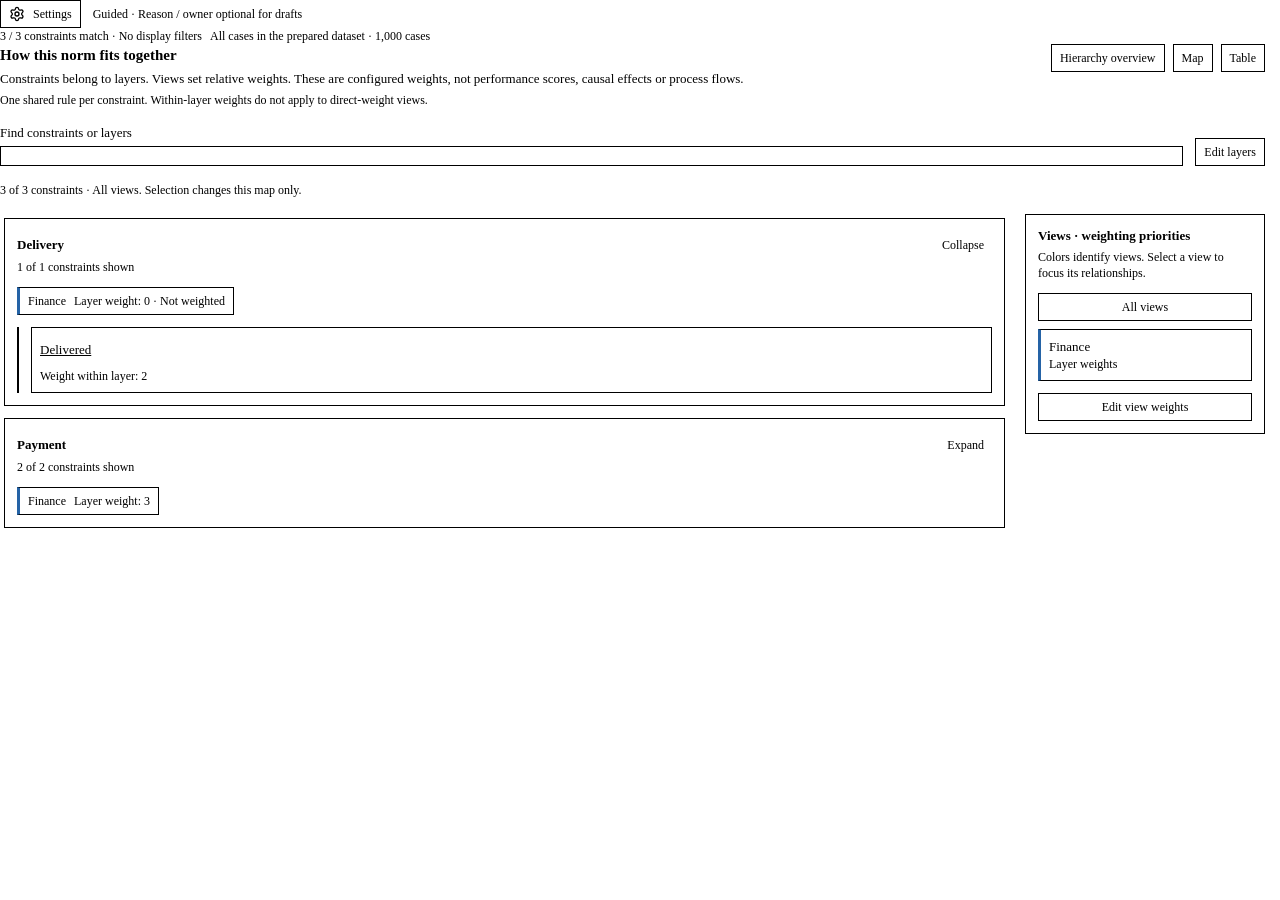
it: lets users choose a flexible cutoff and removes empty layers from the map without changing weights
Expected: the number field labelled "Minimum applicability" is not shown
Click the button "Settings" at (40, 14), box 0,0 -> 81,28
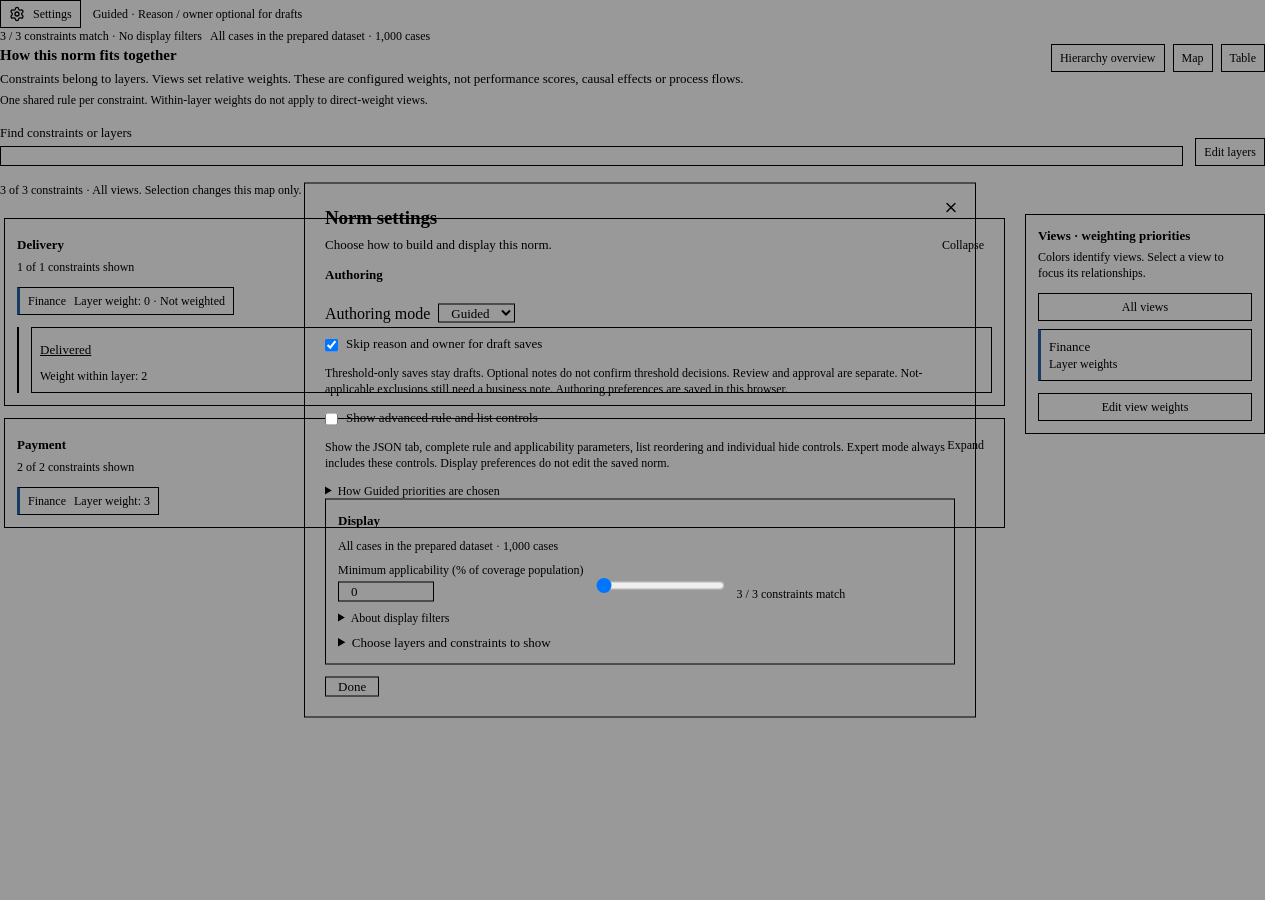
Replace the text in the number field labelled "Minimum applicability (% of coverage population)" with "80" at (386, 592), box 338,582 -> 434,602
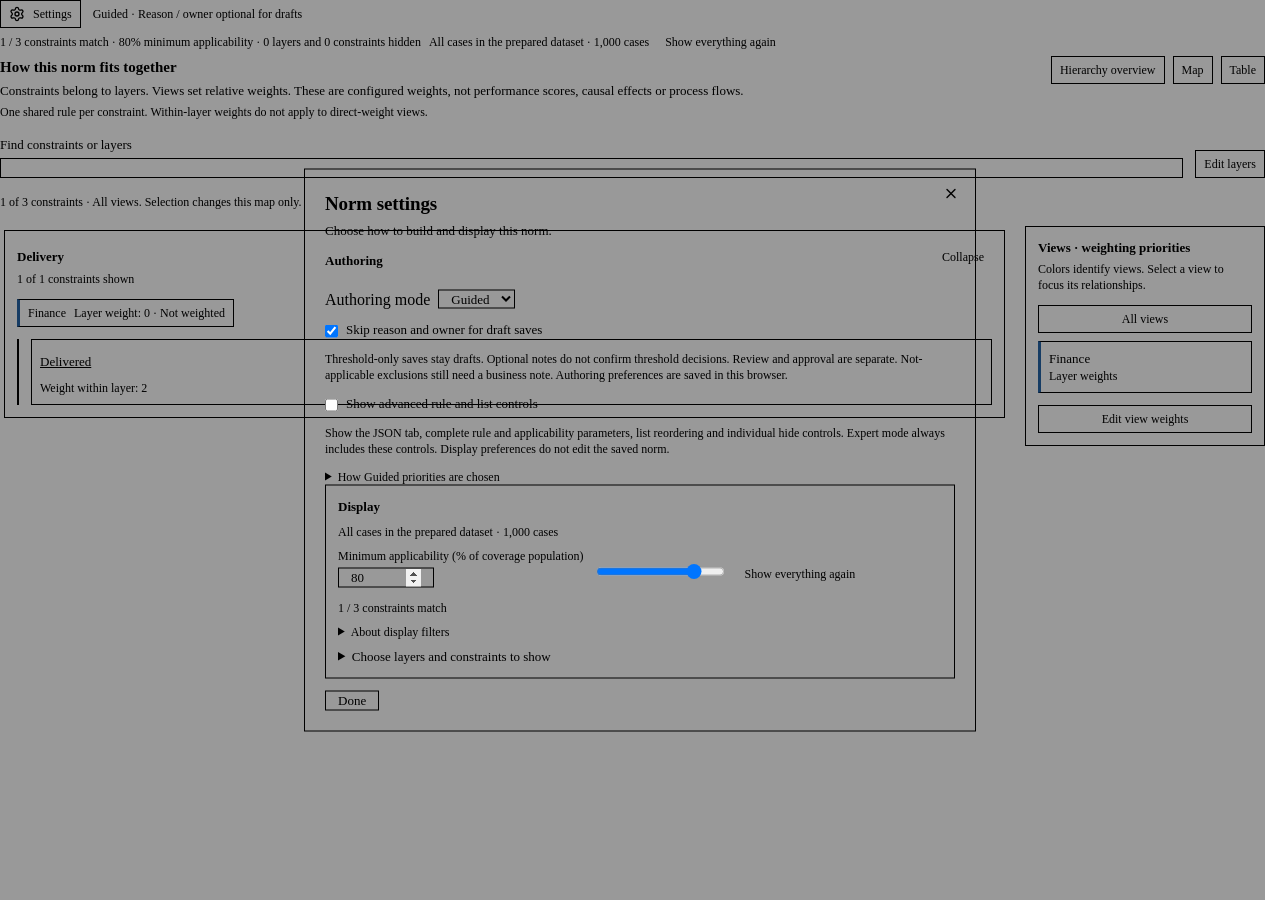
Expected: the element named "Layer: Delivery" is shown, 4,230 -> 1005,418
Now the slider named "Minimum applicability slider" holds "80", box 596,564 -> 725,580
Now the text "1 / 3 constraints match" is shown, box 338,600 -> 447,616
Clear the number field labelled "Minimum applicability (% of coverage population)" at (386, 578), box 338,568 -> 434,588
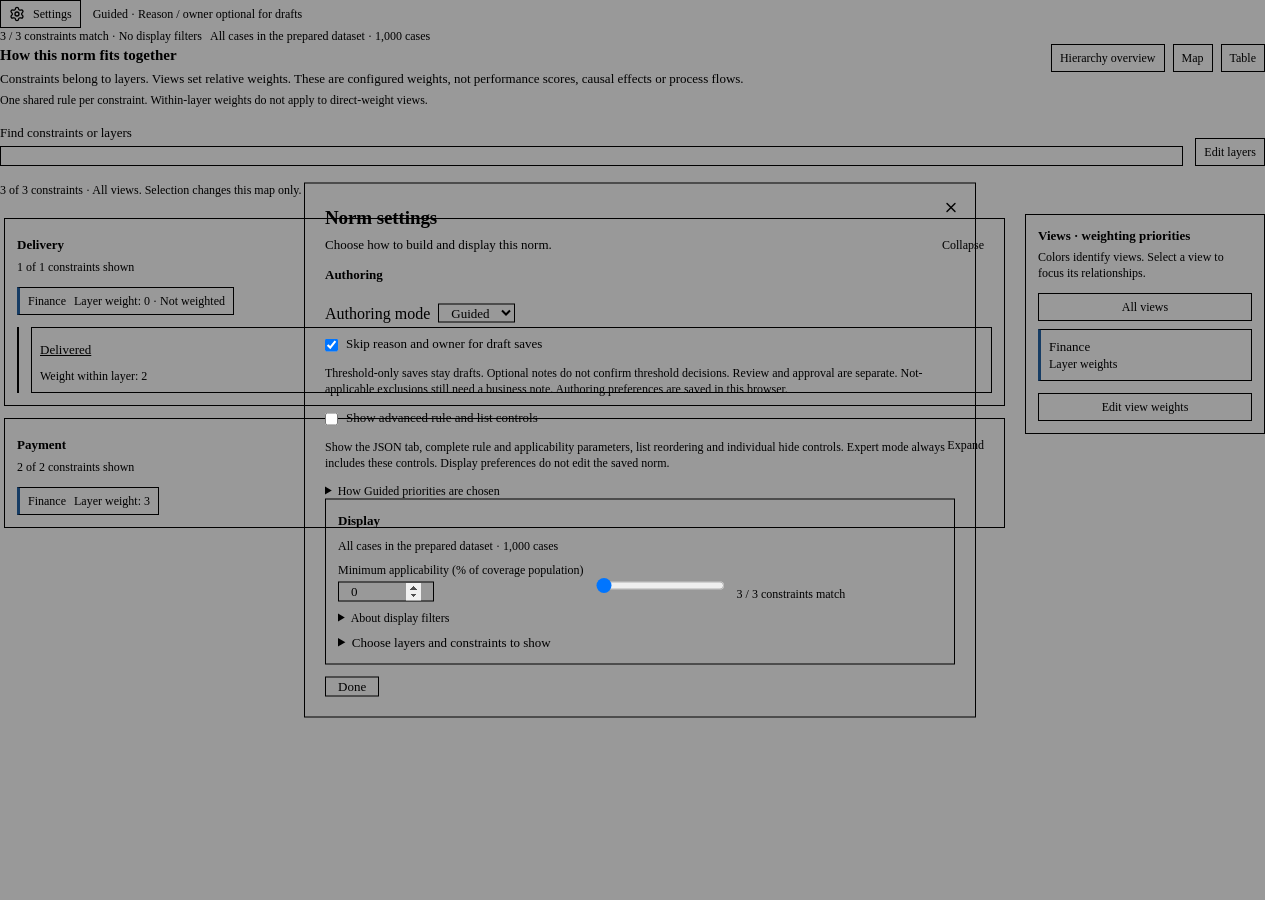
Type "79.9" into the number field labelled "Minimum applicability (% of coverage population)" at (386, 592), box 338,582 -> 434,602
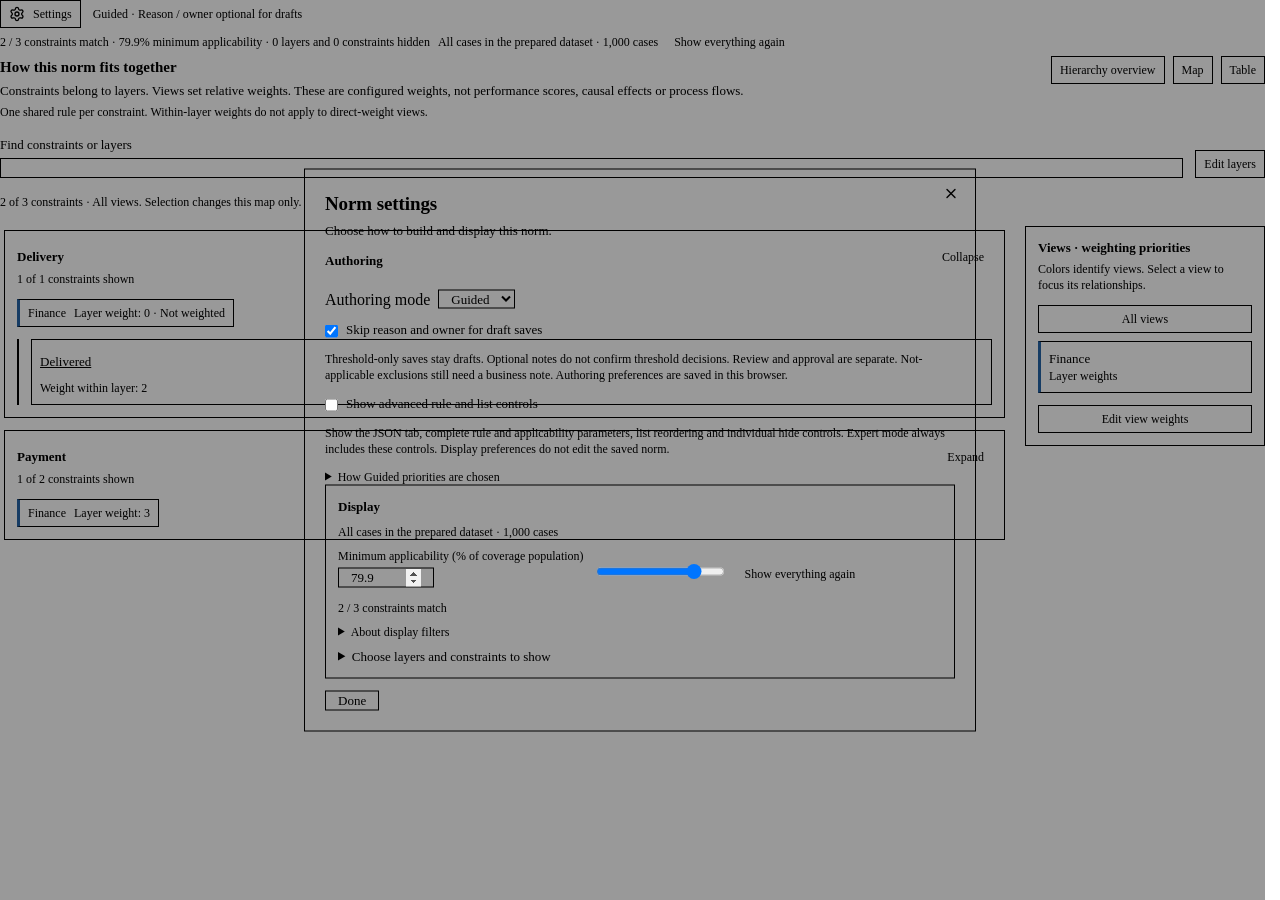
Now the element named "Layer: Payment" is shown, box 4,430 -> 1005,540
Click the button "Show everything again" at (800, 574), box 737,560 -> 863,588
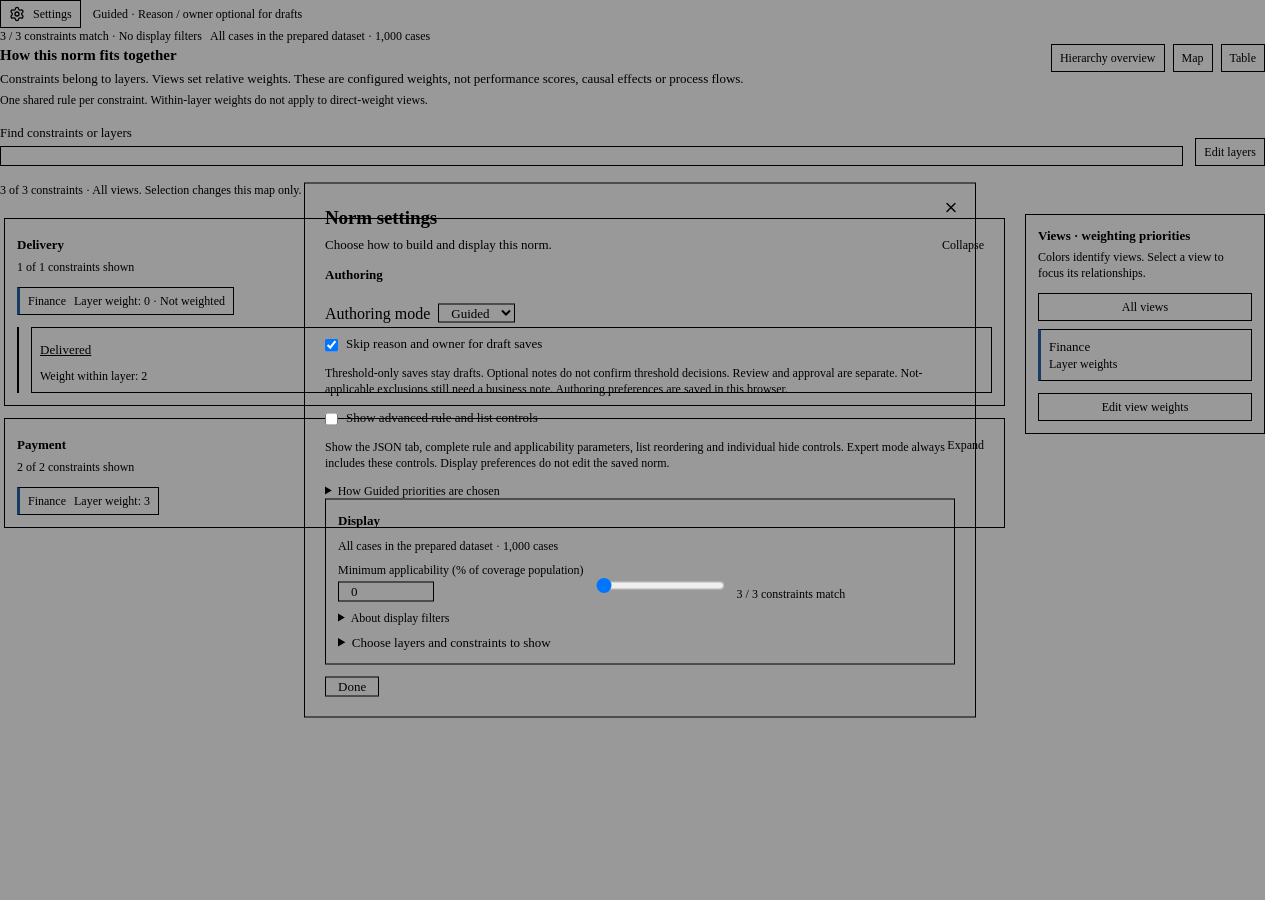
Now the text "3 / 3 constraints match" is shown, box 737,586 -> 845,602
